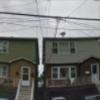stairs: (14, 82, 35, 100)
